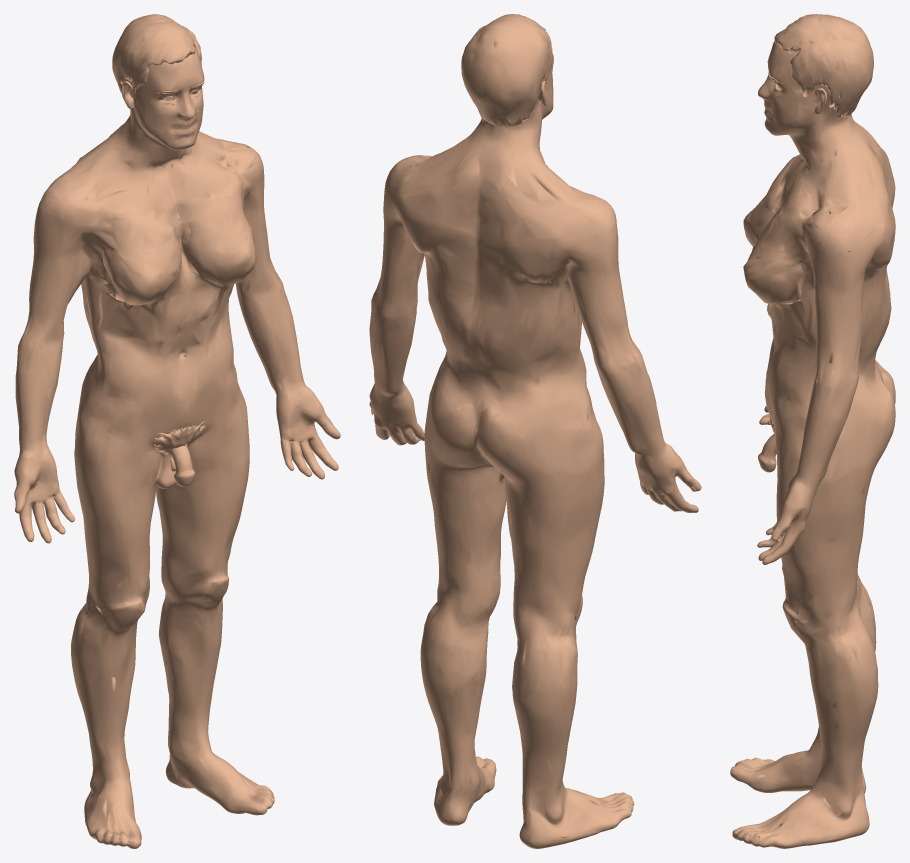
The model's file is integumentary.glb.
3 views of the same model, side by side, from view 1: azimuth 30°, elevation 25°; view 2: azimuth 150°, elevation 25°; view 3: azimuth 270°, elevation 25° (orthographic). The views are drawn at different scales.
Visible parts, largest first — view 1: W_FJ2810, W_FJ2813, W_FJ2815; view 2: W_FJ2810, W_FJ2813; view 3: W_FJ2810, W_FJ2813.
Boxes of the visible parts, x1=… form: W_FJ2810: x1=14, y1=43, x2=340, y2=848; W_FJ2813: x1=112, y1=14, x2=201, y2=108; W_FJ2815: x1=152, y1=421, x2=206, y2=453; W_FJ2810: x1=369, y1=54, x2=701, y2=848; W_FJ2813: x1=461, y1=14, x2=552, y2=127; W_FJ2810: x1=730, y1=41, x2=895, y2=848; W_FJ2813: x1=774, y1=14, x2=873, y2=118.
Bounding box in the file's own units: 0.6962 × 1.62 × 0.3036.
